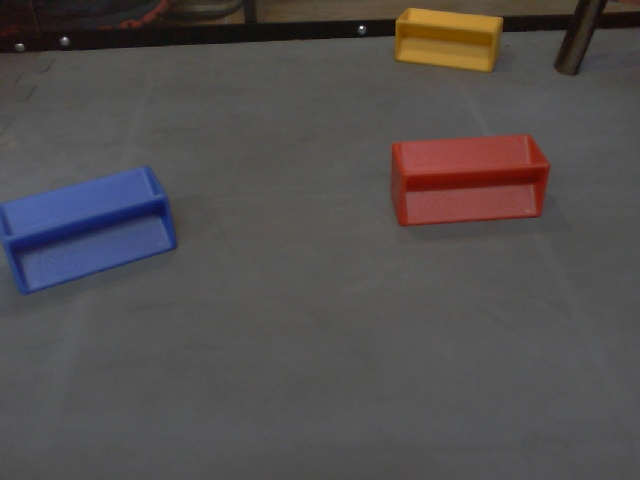BlueSample: (1, 165, 178, 295)
RedSample: (390, 135, 552, 229)
YellowSample: (394, 6, 504, 81)
